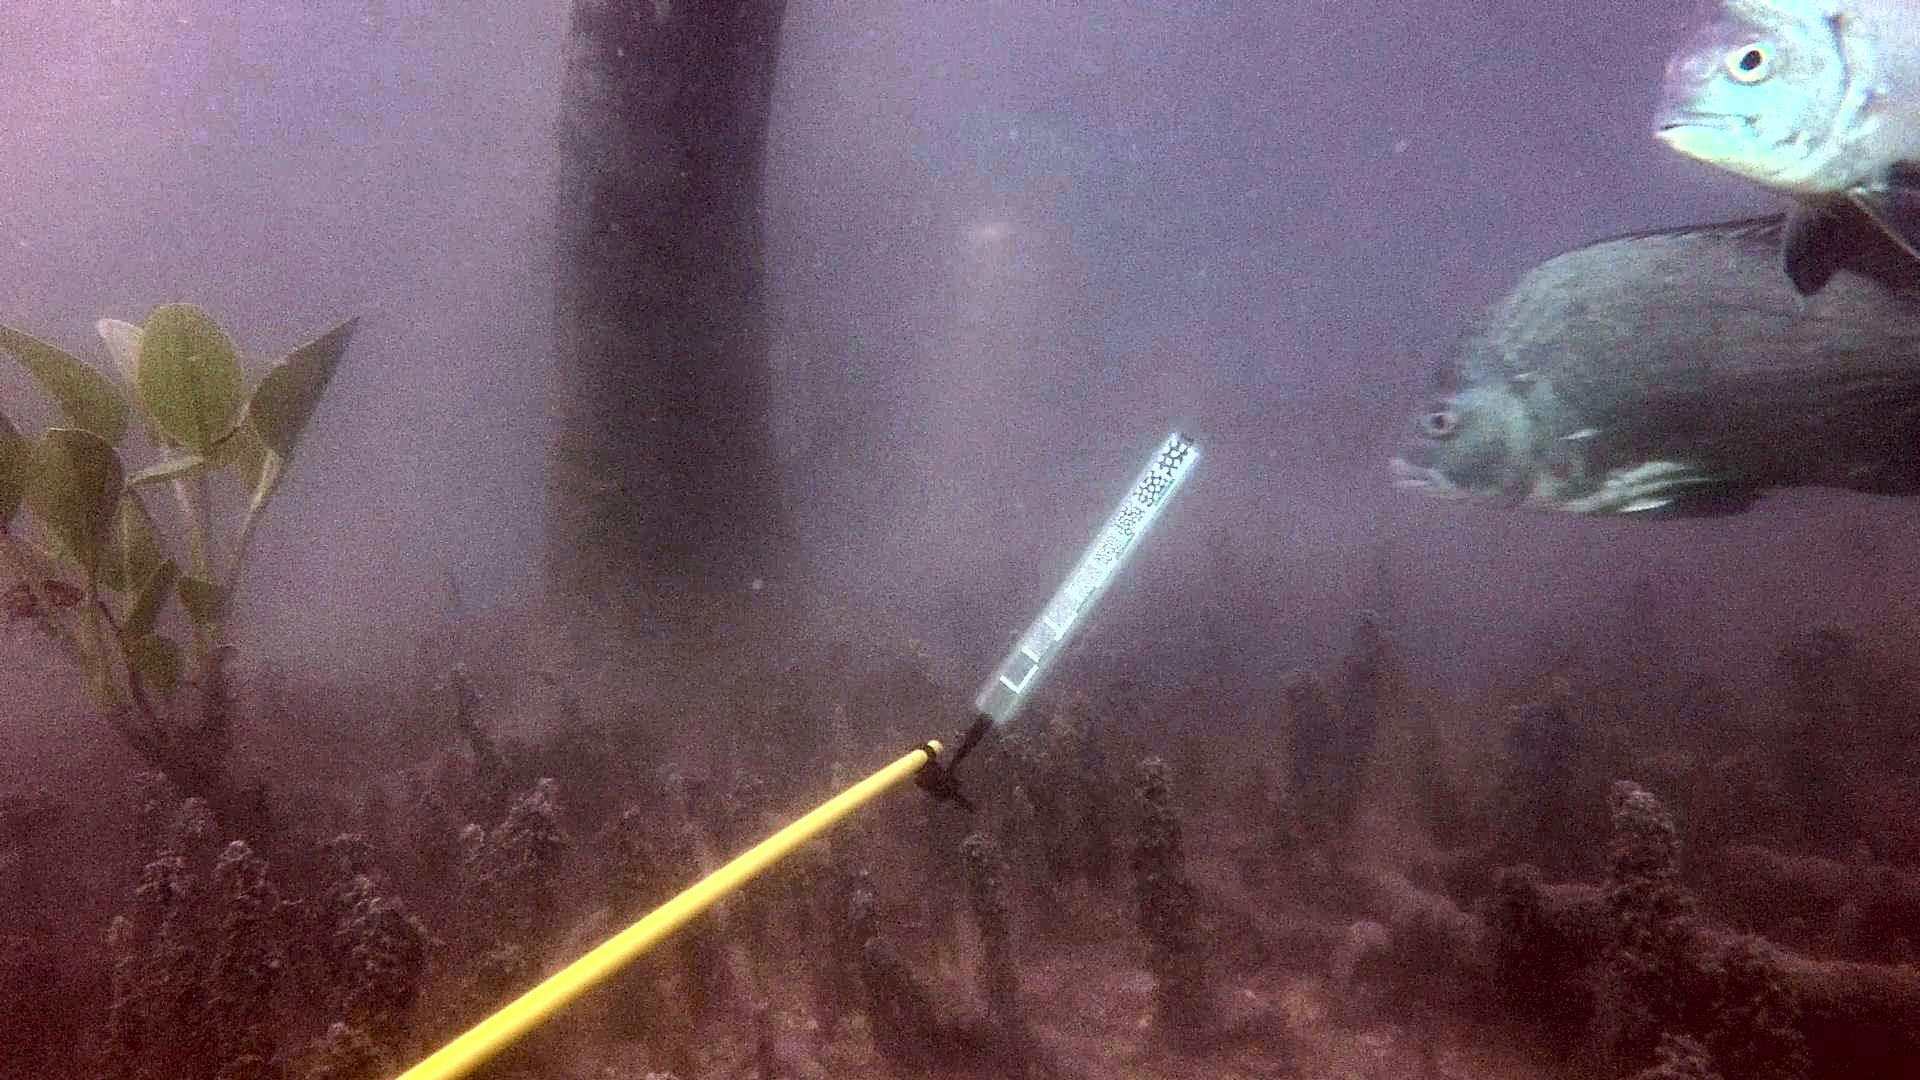acanthopagrus palmaris: (1378, 200, 1920, 530), (1640, 0, 1920, 306)
